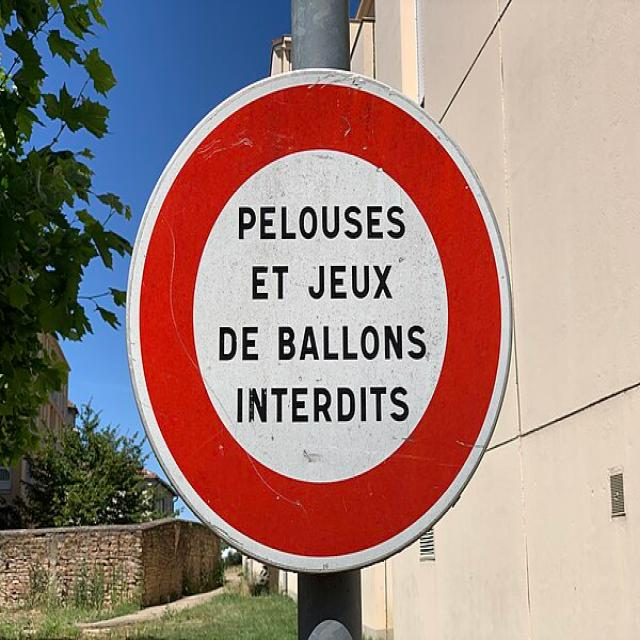forbidden: (126, 66, 515, 579)
